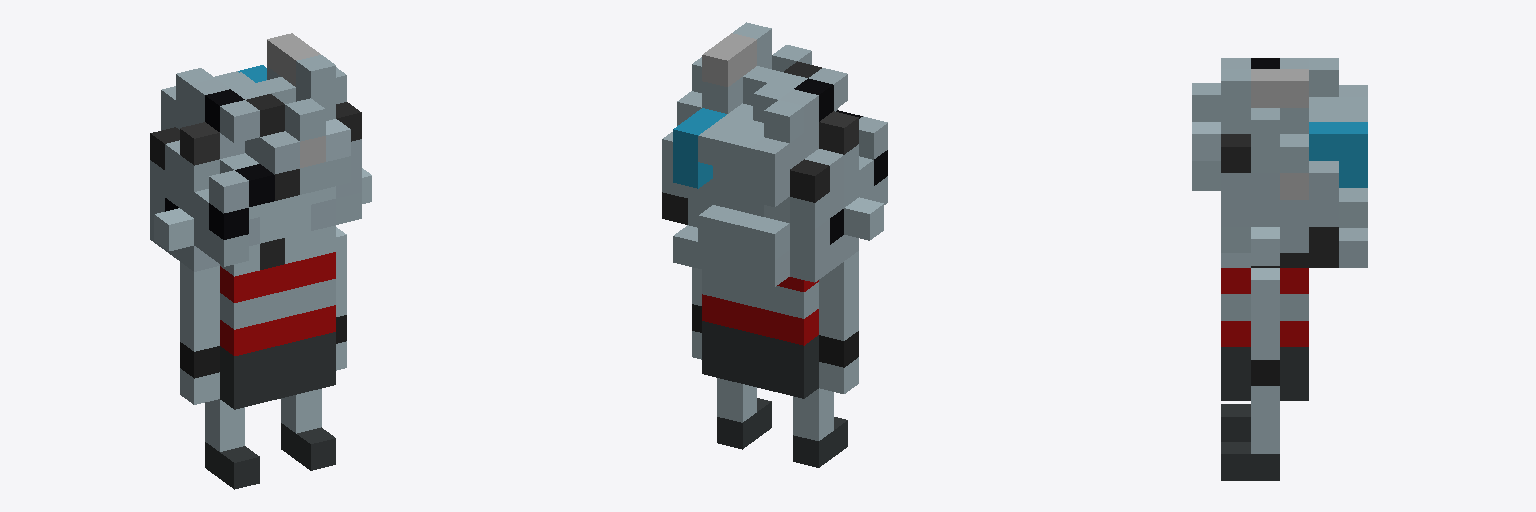
3 views of the same model, side by side, from view 1: azimuth 30°, elevation 25°; view 2: azimuth 150°, elevation 25°; view 3: azimuth 270°, elevation 25° (orthographic).
Visible parts, largest first — view 1: boy2-1; view 2: boy2-1; view 3: boy2-1.
Boxes of the visible parts, x1,y1,x2,y2 form: boy2-1: [150, 33, 371, 489]; boy2-1: [662, 22, 887, 467]; boy2-1: [1192, 58, 1367, 480].
Size of the model in its own units: 8 by 15 by 6.
1 materials, 1 textured.